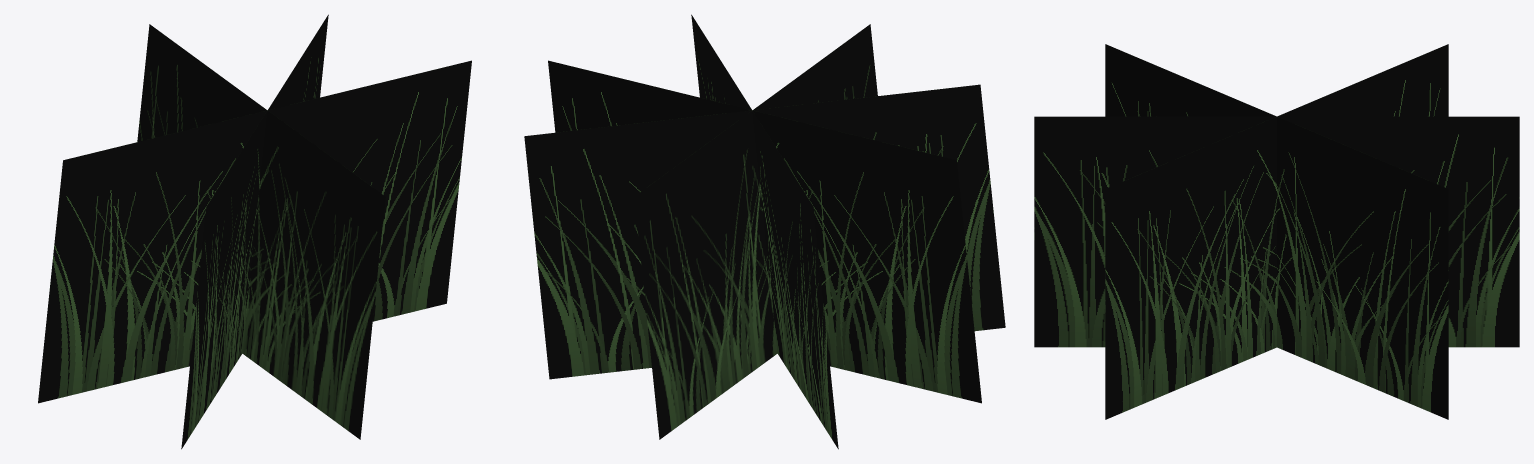
Rendered from grass.glb.
The picture shows the model from 3 angles, left to right: view 1: azimuth 30°, elevation 25°; view 2: azimuth 150°, elevation 25°; view 3: azimuth 270°, elevation 25°; orthographic projection. The views are drawn at different scales.
Parts seen in each view (by area): view 1: Grass tuft; view 2: Grass tuft; view 3: Grass tuft.
Boxes of the visible parts, box(x1,y1,x2,y2) form: Grass tuft: box(38, 14, 471, 449); Grass tuft: box(524, 14, 1005, 449); Grass tuft: box(1034, 44, 1519, 419).
Size of the model in its own units: 1.38 by 0.72 by 1.3.
1 material, 1 textured.
